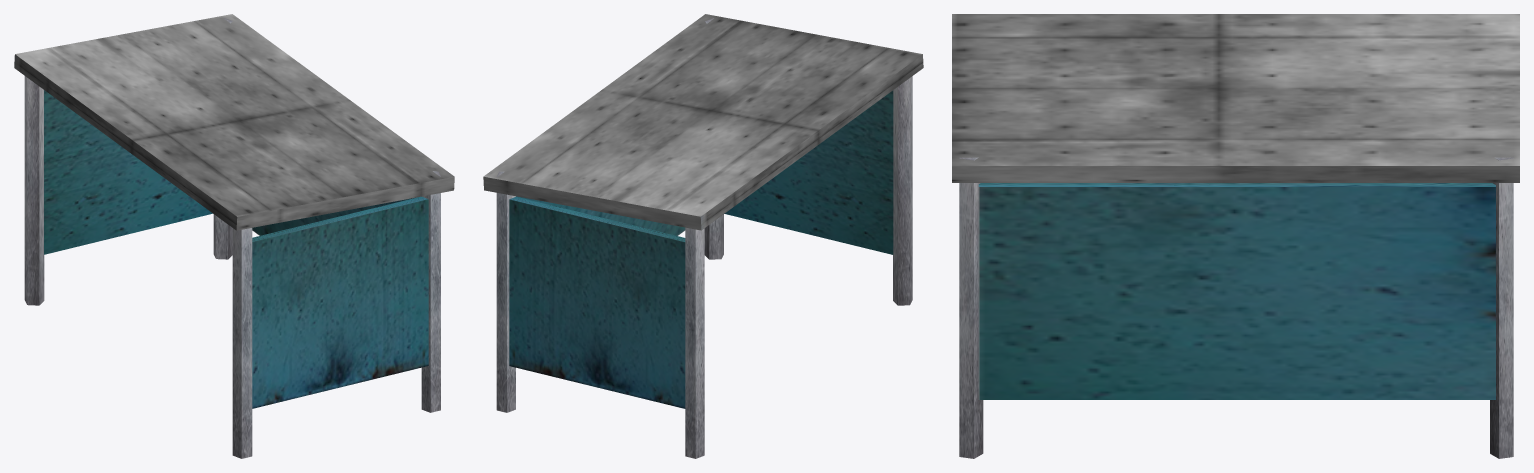
The model's file is BusStop.fbx.
The picture shows the model from 3 angles, left to right: view 1: azimuth 30°, elevation 25°; view 2: azimuth 150°, elevation 25°; view 3: azimuth 270°, elevation 25°; orthographic projection. The views are drawn at different scales.
Visible parts, largest first — view 1: Cube.001, Cube.004, Cylinder.003, Cube.005; view 2: Cube.001, Cube.004, Cylinder.003, Cube.005; view 3: Cube.005, Cube.001, Cylinder.003.
Part boxes in pixels (x1=…): Cube.001: x1=14, y1=14, x2=454, y2=230; Cube.004: x1=44, y1=90, x2=428, y2=408; Cylinder.003: x1=24, y1=18, x2=440, y2=458; Cube.005: x1=252, y1=197, x2=415, y2=235; Cube.001: x1=483, y1=14, x2=923, y2=230; Cube.004: x1=509, y1=90, x2=893, y2=408; Cylinder.003: x1=496, y1=18, x2=912, y2=458; Cube.005: x1=516, y1=196, x2=685, y2=235; Cube.005: x1=978, y1=183, x2=1495, y2=399; Cube.001: x1=952, y1=14, x2=1519, y2=182; Cylinder.003: x1=959, y1=157, x2=1513, y2=458.
Size of the model in its own units: 302 by 325 by 533.
1 material, 1 textured.
